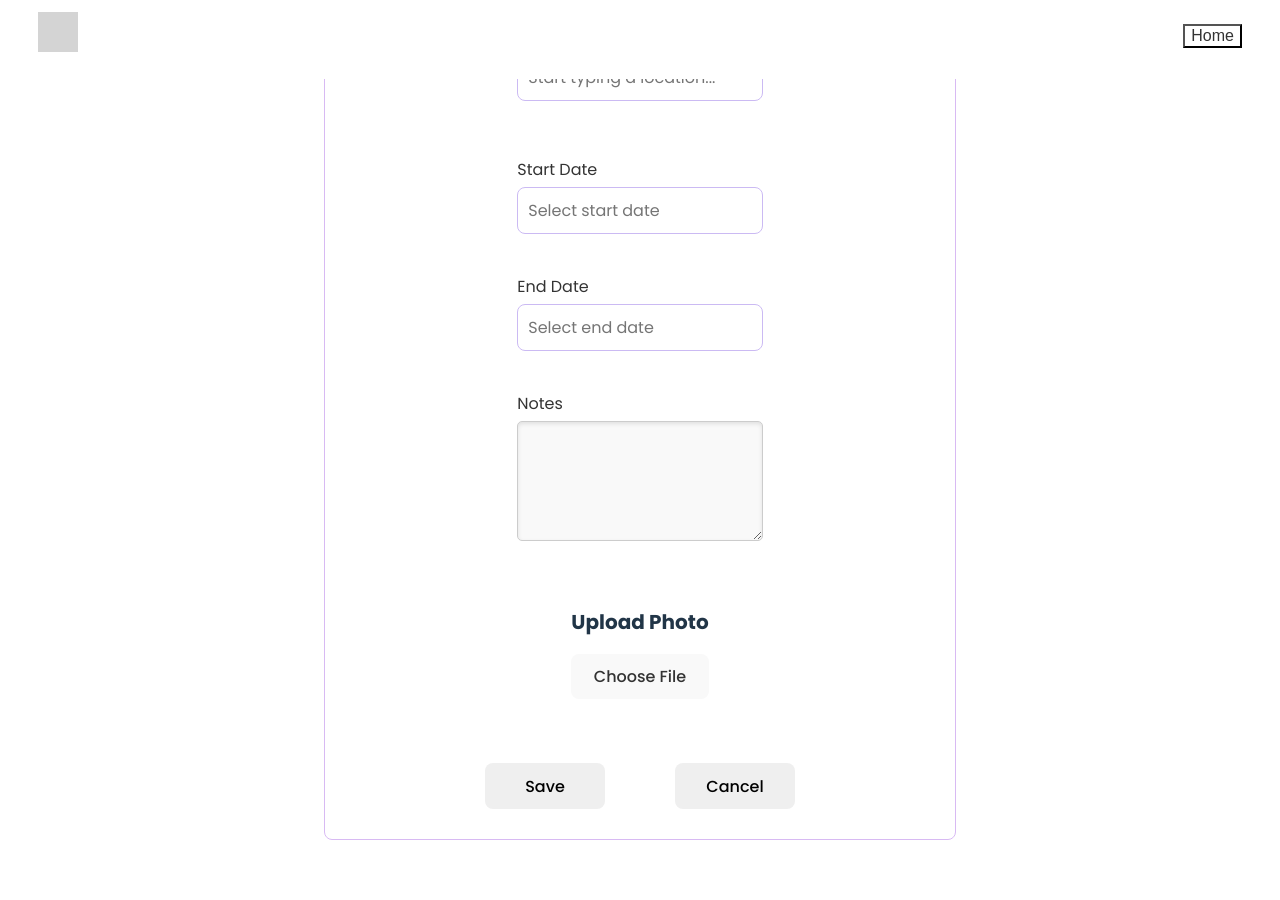
SignupForm Component › displays validation errors for required fields
(page scrolled)
# Click the Save button without filling any fields
Click the button "Save" at x=545, y=786, box [485,763,605,809]
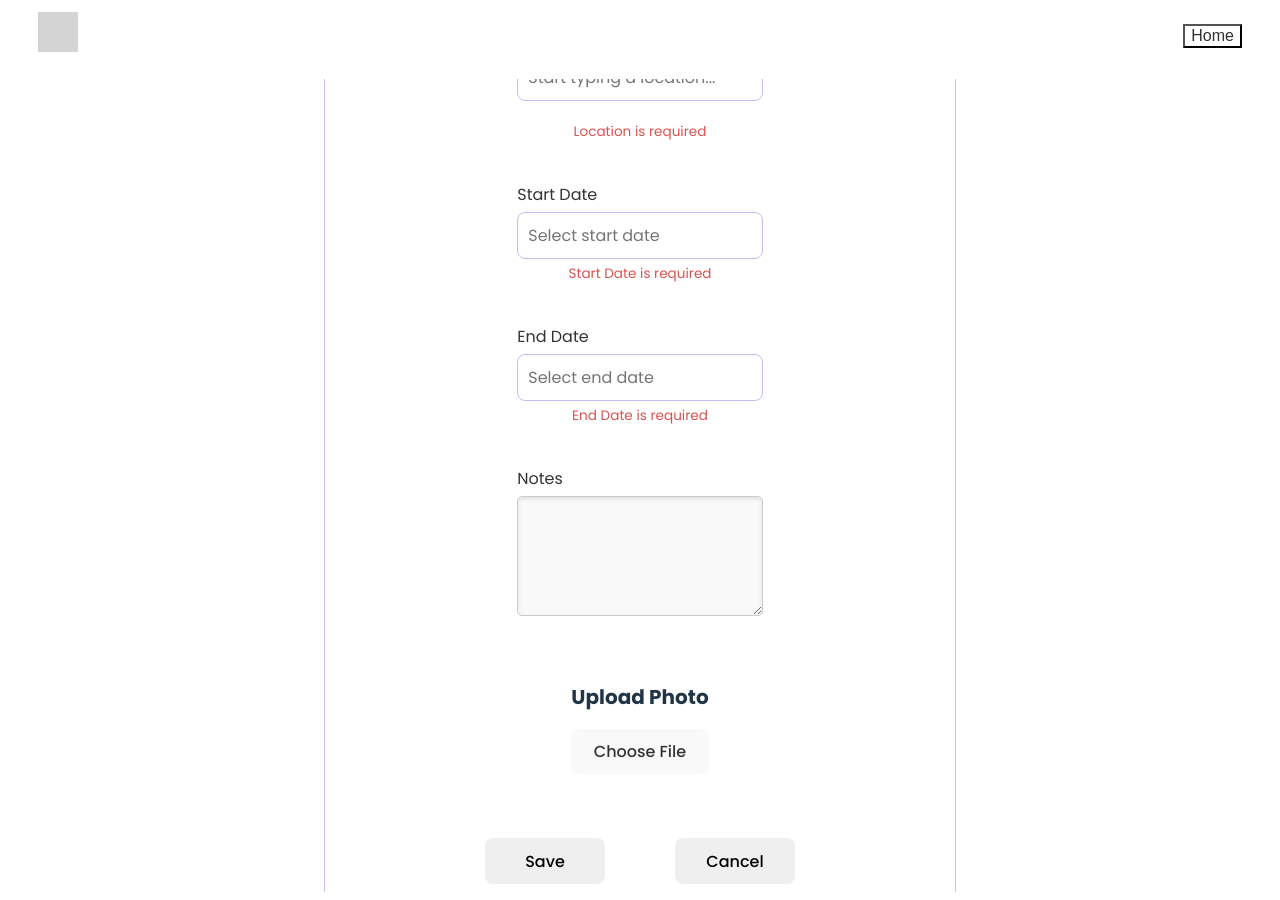
Now the text "Location is required" is shown, box [574,122,706,142]
Now the text "Start Date is required" is shown, box [568,264,712,284]
Now the text "End Date is required" is shown, box [572,406,708,426]
